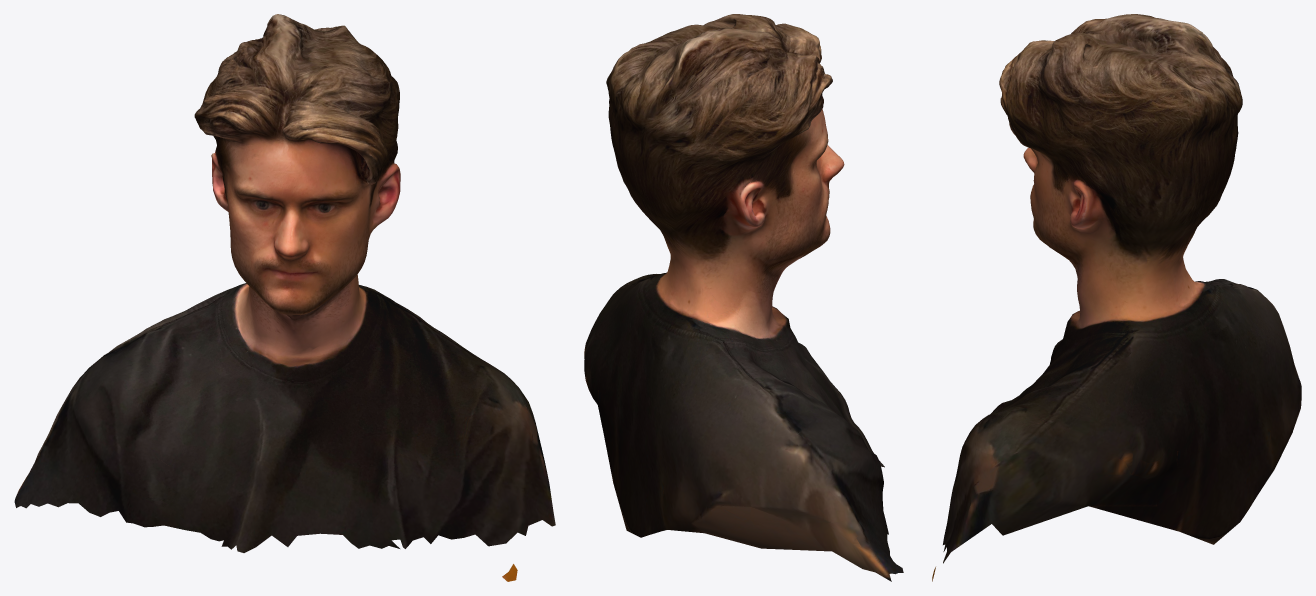
The model's file is cam.glb.
The picture shows the model from 3 angles, left to right: view 1: azimuth 30°, elevation 25°; view 2: azimuth 150°, elevation 25°; view 3: azimuth 270°, elevation 25°; orthographic projection.
Parts seen in each view (by area): view 1: Mesh_0; view 2: Mesh_0; view 3: Mesh_0.
Boxes of the visible parts, <box> form: Mesh_0: <box>14,14,555,581</box>; Mesh_0: <box>584,14,903,581</box>; Mesh_0: <box>932,14,1301,581</box>.
Bounding box in the file's own units: 0.475 × 0.5573 × 0.3702.
Materials: 1 (1 with a texture image).
